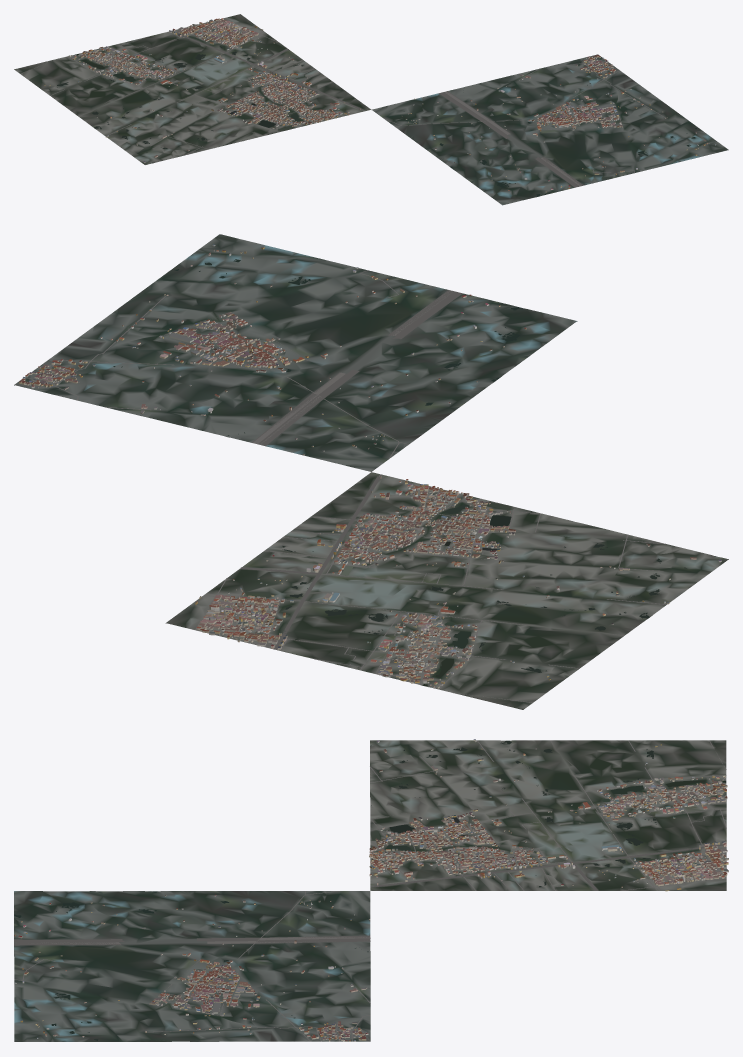
The picture shows the model from 3 angles, top to bottom: view 1: azimuth 30°, elevation 25°; view 2: azimuth 150°, elevation 25°; view 3: azimuth 270°, elevation 25°; orthographic projection. The views are drawn at different scales.
Parts seen in each view (by area): view 1: ground, buildings, roads, water; view 2: ground, buildings, roads, water; view 3: ground, buildings, roads, water.
Part boxes in pixels (bbox=[...]): ground: bbox=[14, 14, 728, 205]; buildings: bbox=[44, 18, 716, 192]; roads: bbox=[21, 19, 664, 187]; water: bbox=[57, 46, 696, 196]; ground: bbox=[14, 234, 728, 709]; buildings: bbox=[19, 244, 721, 688]; roads: bbox=[18, 270, 666, 702]; water: bbox=[113, 259, 715, 686]; ground: bbox=[14, 740, 726, 1041]; buildings: bbox=[14, 739, 728, 1041]; roads: bbox=[14, 740, 726, 1041]; water: bbox=[14, 740, 726, 1040].
Size of the model in its own units: 2811 by 16.48 by 2813.
